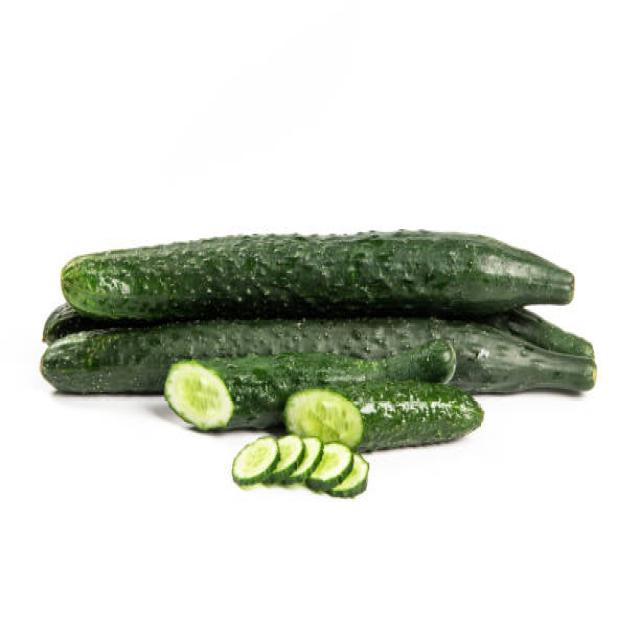cucumber: (41, 229, 596, 451)
